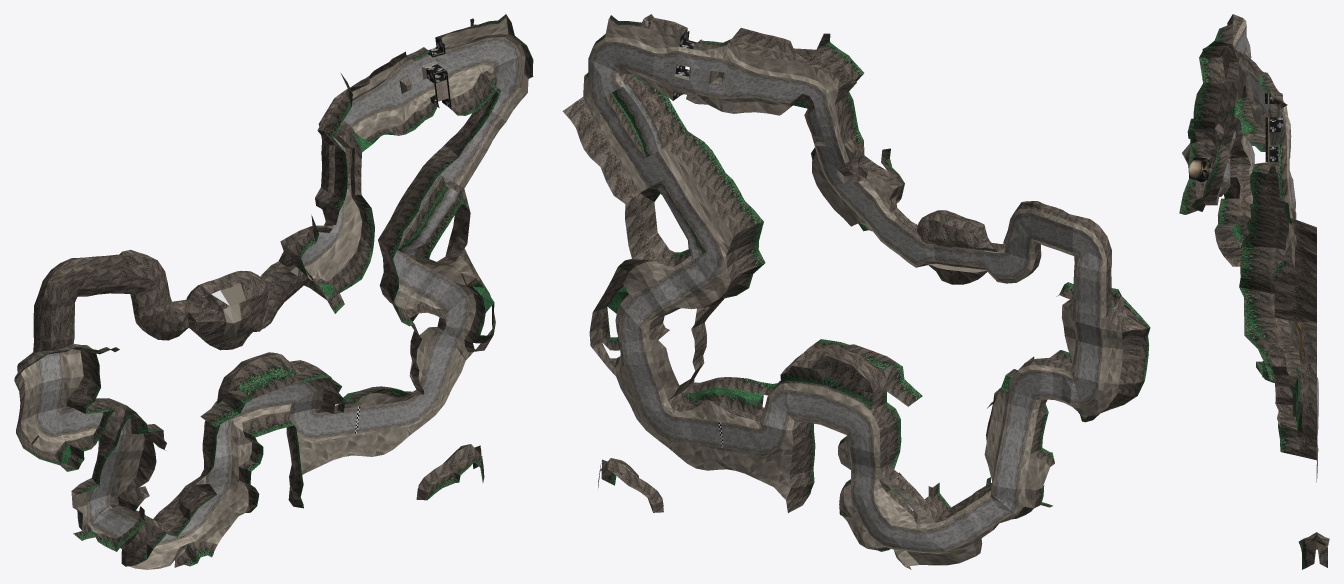
Rendered from PSTK.GDB.obj.
The picture shows the model from 3 angles, left to right: view 1: azimuth 30°, elevation 25°; view 2: azimuth 150°, elevation 25°; view 3: azimuth 270°, elevation 25°; orthographic projection. The views are drawn at different scales.
Bounding box in the file's own units: 1678 × 1421 × 410.
Materials: 19 (19 with a texture image).
